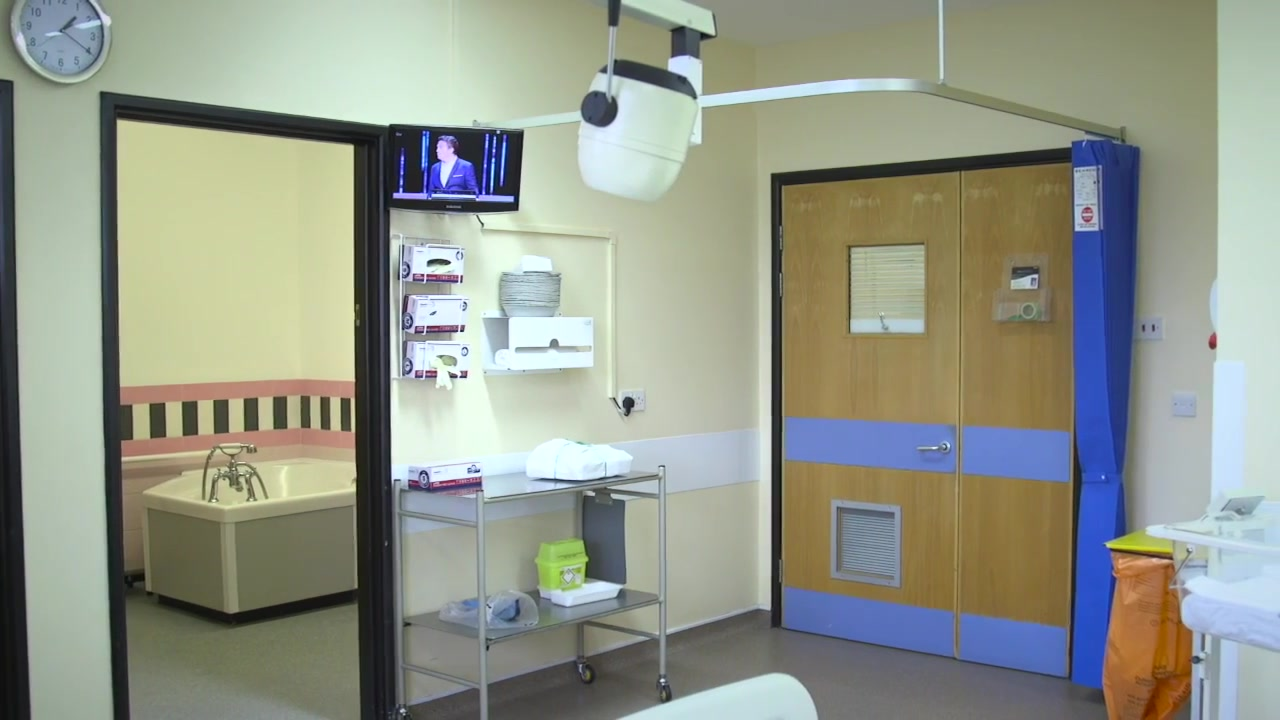TV: (385, 123, 526, 211)
curtain: (1070, 134, 1137, 688)
dispenser: (403, 244, 474, 378)
door_handle: (917, 440, 950, 454)
panda_baby_warmer: (1140, 487, 1280, 720)
restroom_assist_bar: (123, 441, 245, 474)
utility_cart: (394, 466, 672, 720)
waste_bin: (1103, 527, 1195, 720)
